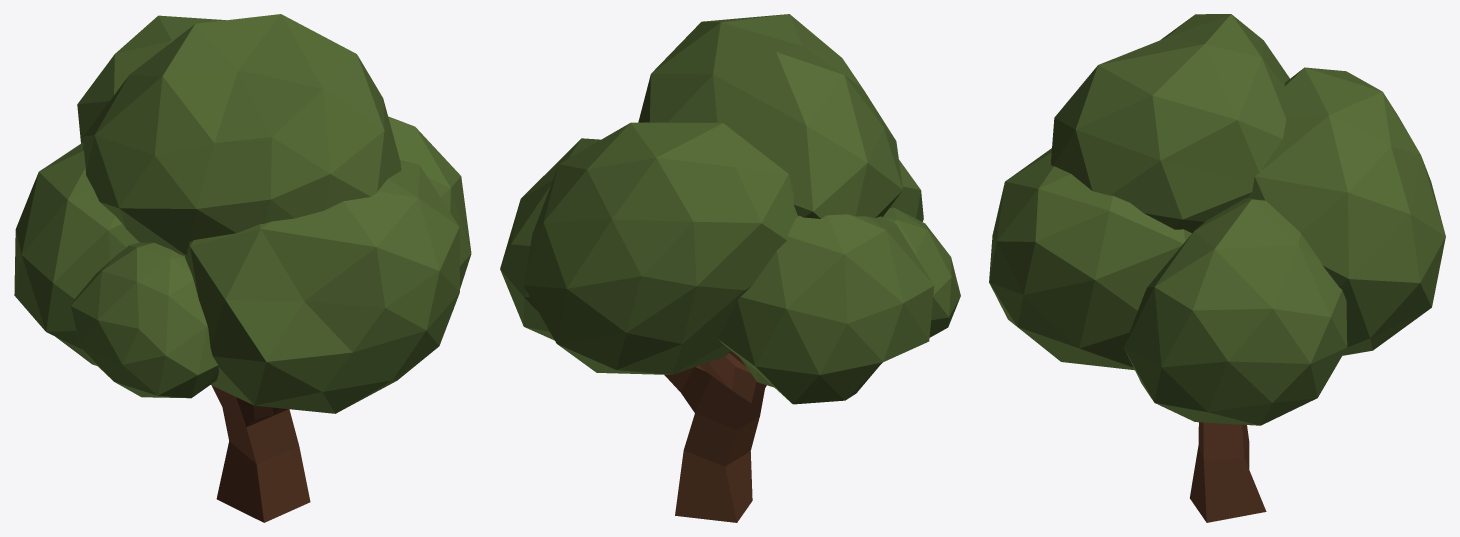
The model's file is OakTree_02.fbx.
The picture shows the model from 3 angles, left to right: view 1: azimuth 30°, elevation 25°; view 2: azimuth 150°, elevation 25°; view 3: azimuth 270°, elevation 25°; orthographic projection. The views are drawn at different scales.
Visible parts, largest first — view 1: OakTree3; view 2: OakTree3; view 3: OakTree3.
Boxes of the visible parts, box(x1,y1,x2,y2) form: OakTree3: box(14, 14, 471, 522); OakTree3: box(500, 14, 960, 522); OakTree3: box(989, 14, 1445, 522).
Size of the model in its own units: 1382 by 1591 by 1415.
